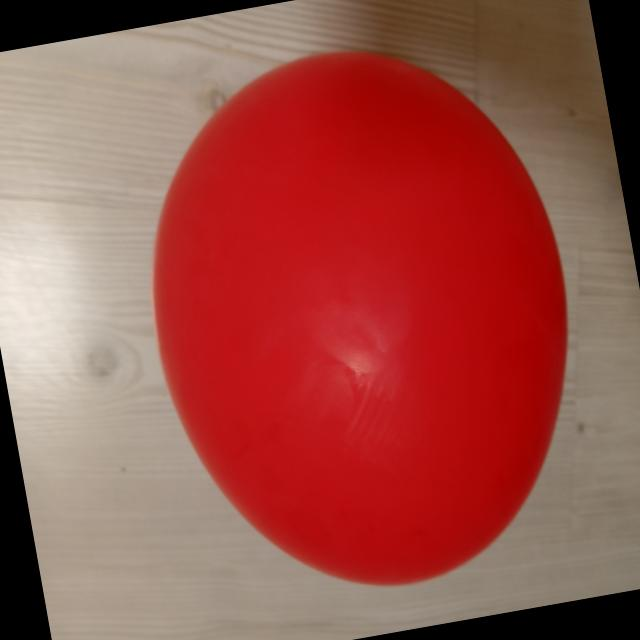balloon: (153, 52, 567, 584)
